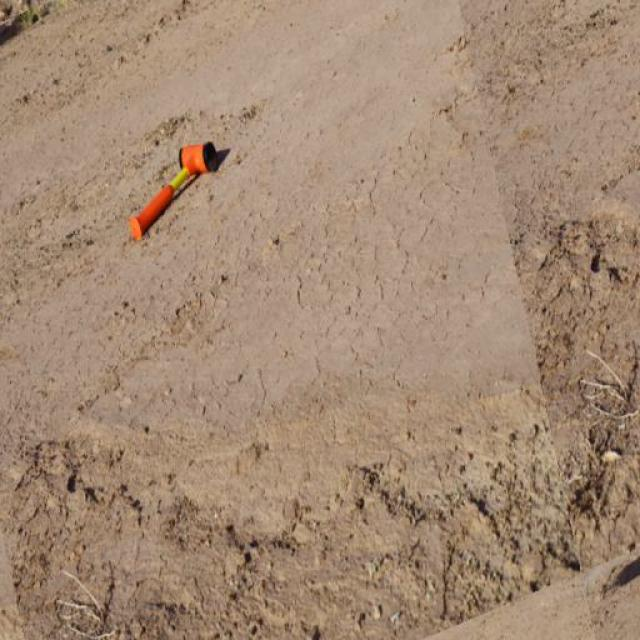mallet: (129, 139, 220, 241)
